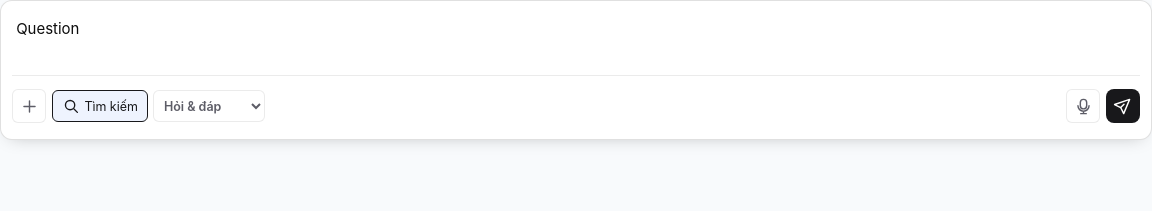
Test: Research Input Composer (Checkpoint F1) › shows a clear fallback when speech recognition is unavailable
The width and height of the screenshot is (1152, 211).
Click the button with test id "btn-voice-input" at (1083, 106), box [1066,89,1100,123]
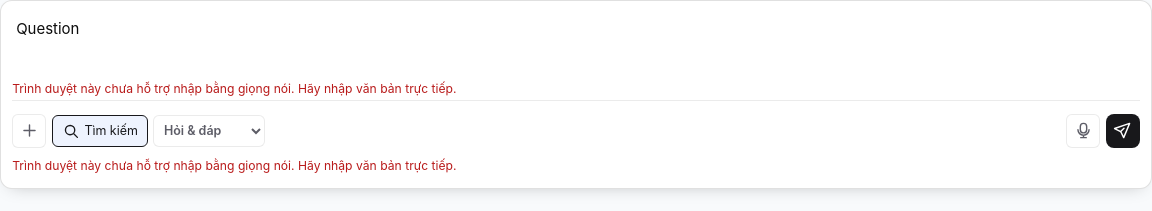
Now the text with test id "voice-unsupported" is shown, box [12,158,457,173]
